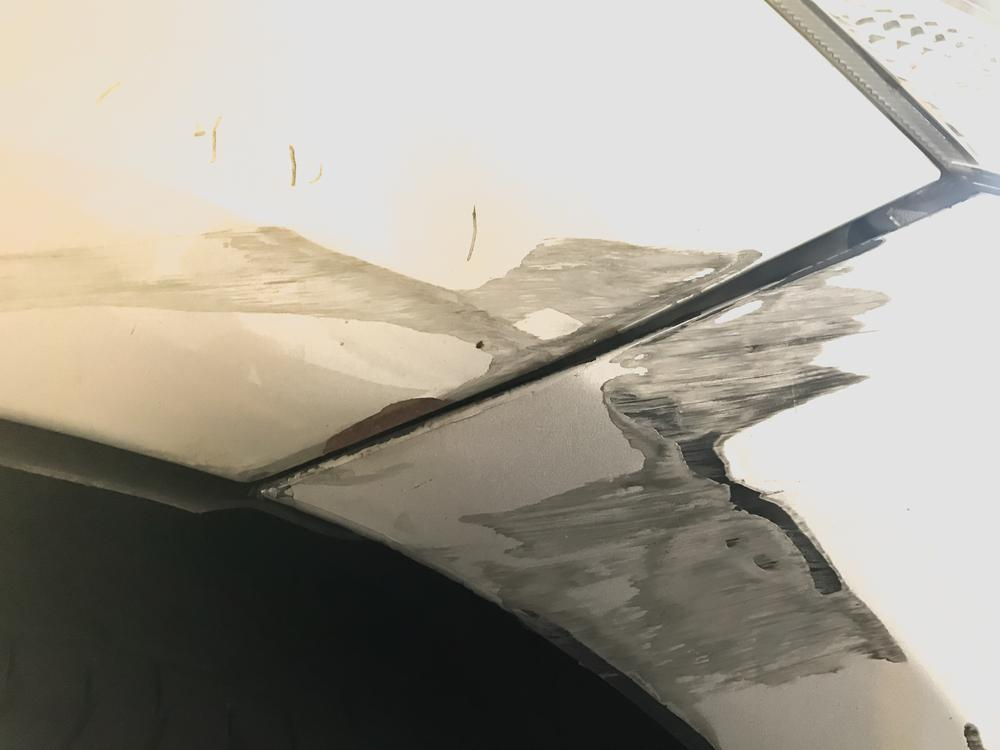scratch: (460, 235, 912, 750), (0, 219, 764, 401)
